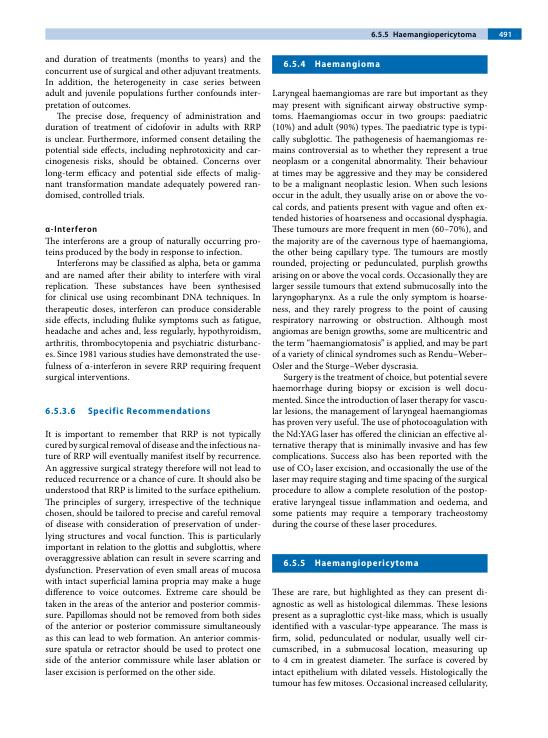header: (392, 30, 477, 40)
section-heading: (314, 558, 419, 569), (314, 59, 381, 70)
sub-section-heading: (86, 405, 211, 417), (43, 224, 99, 234)
text: (270, 87, 489, 532), (43, 429, 262, 680), (44, 236, 262, 384), (44, 54, 262, 200), (271, 587, 488, 690)
